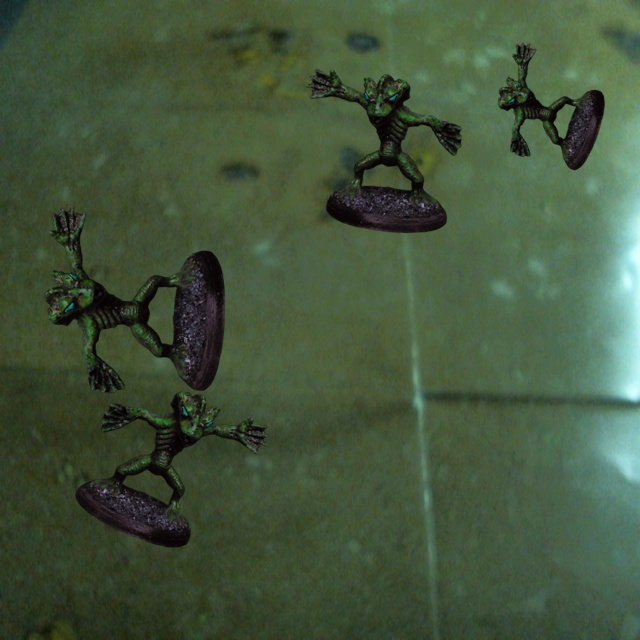pieza_juego: (44, 206, 224, 393), (75, 391, 268, 547), (306, 69, 461, 232), (497, 43, 604, 169)
